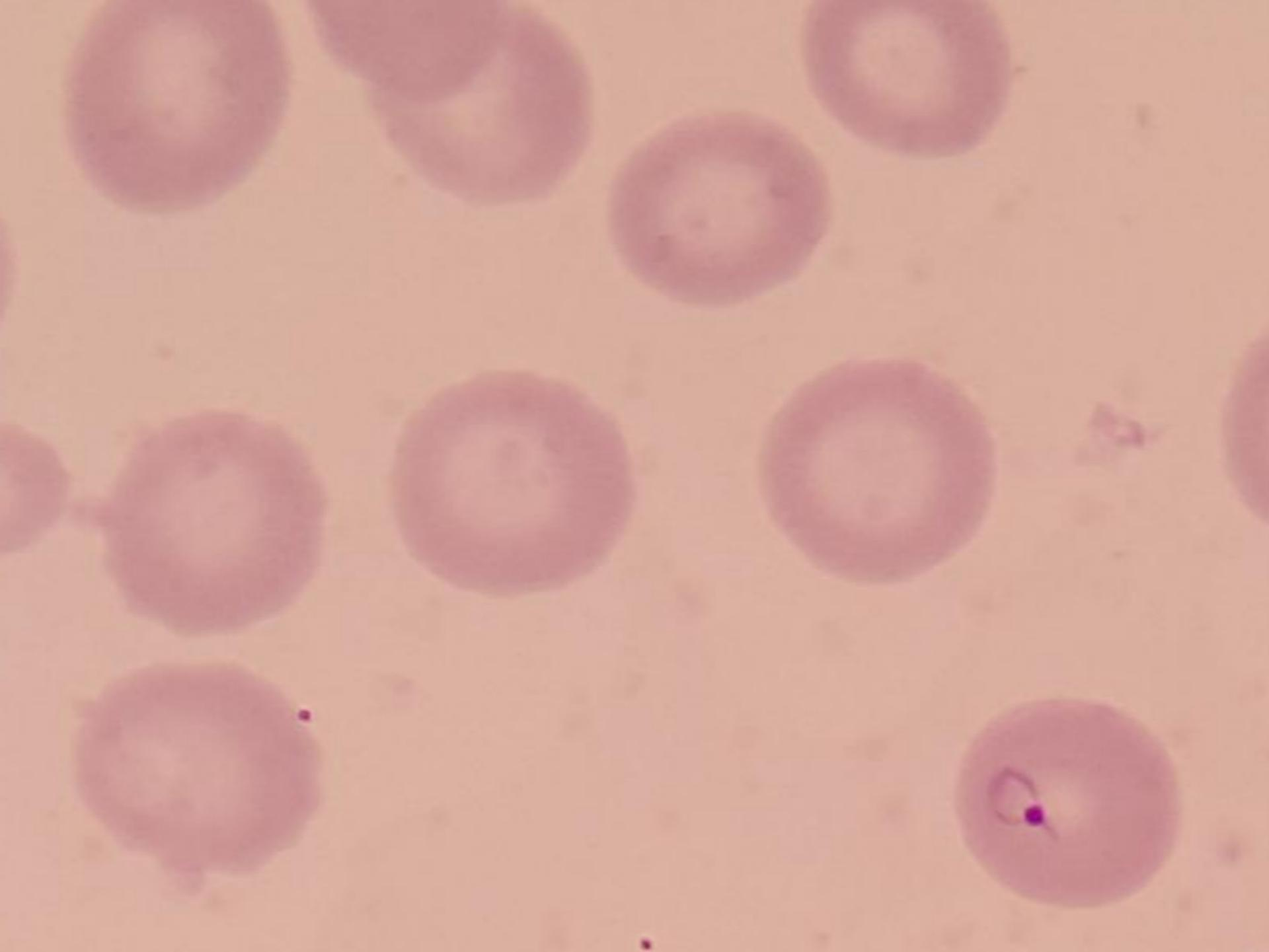Infected: (952, 690, 1190, 920)
Uninfected: (55, 659, 319, 890), (756, 355, 1000, 594), (394, 368, 634, 601), (101, 413, 326, 635), (372, 0, 595, 214), (62, 0, 281, 209), (612, 109, 831, 312), (795, 0, 1015, 154), (317, 0, 524, 106)
